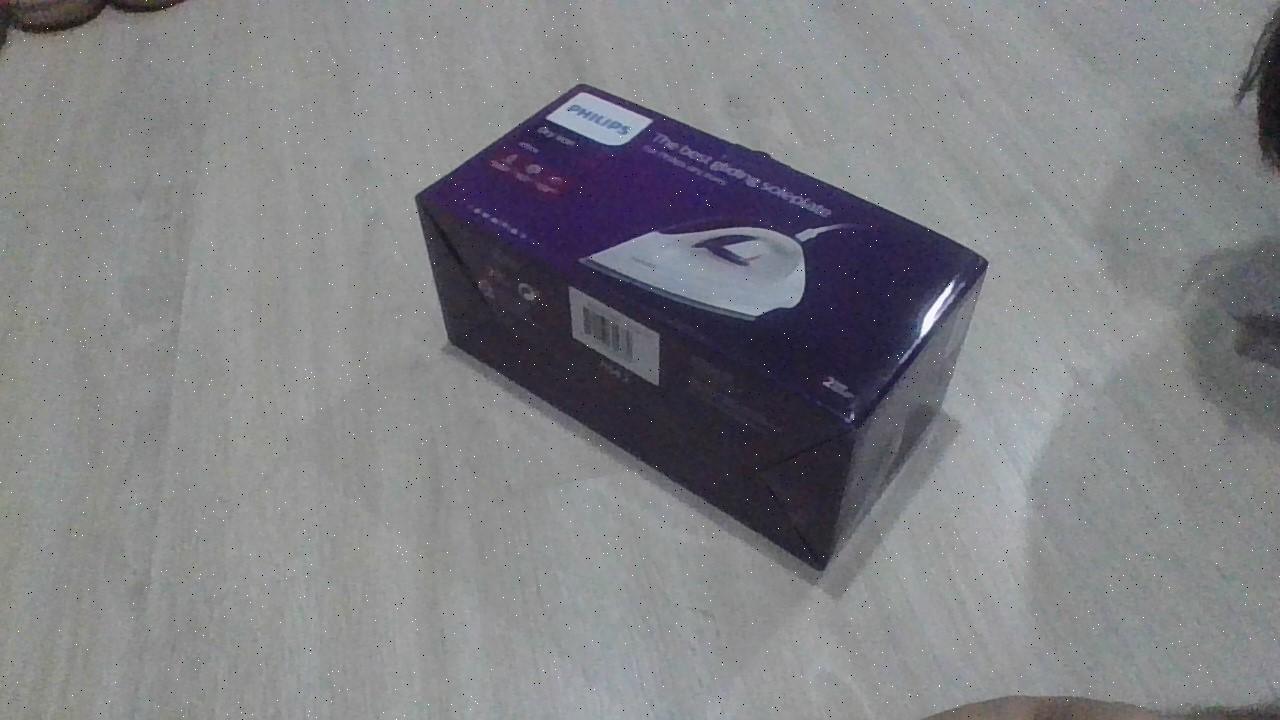IRON: (410, 80, 992, 583)
